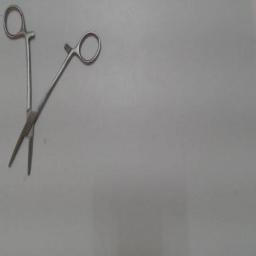Mayo Needle Holder: (1, 2, 105, 186)
